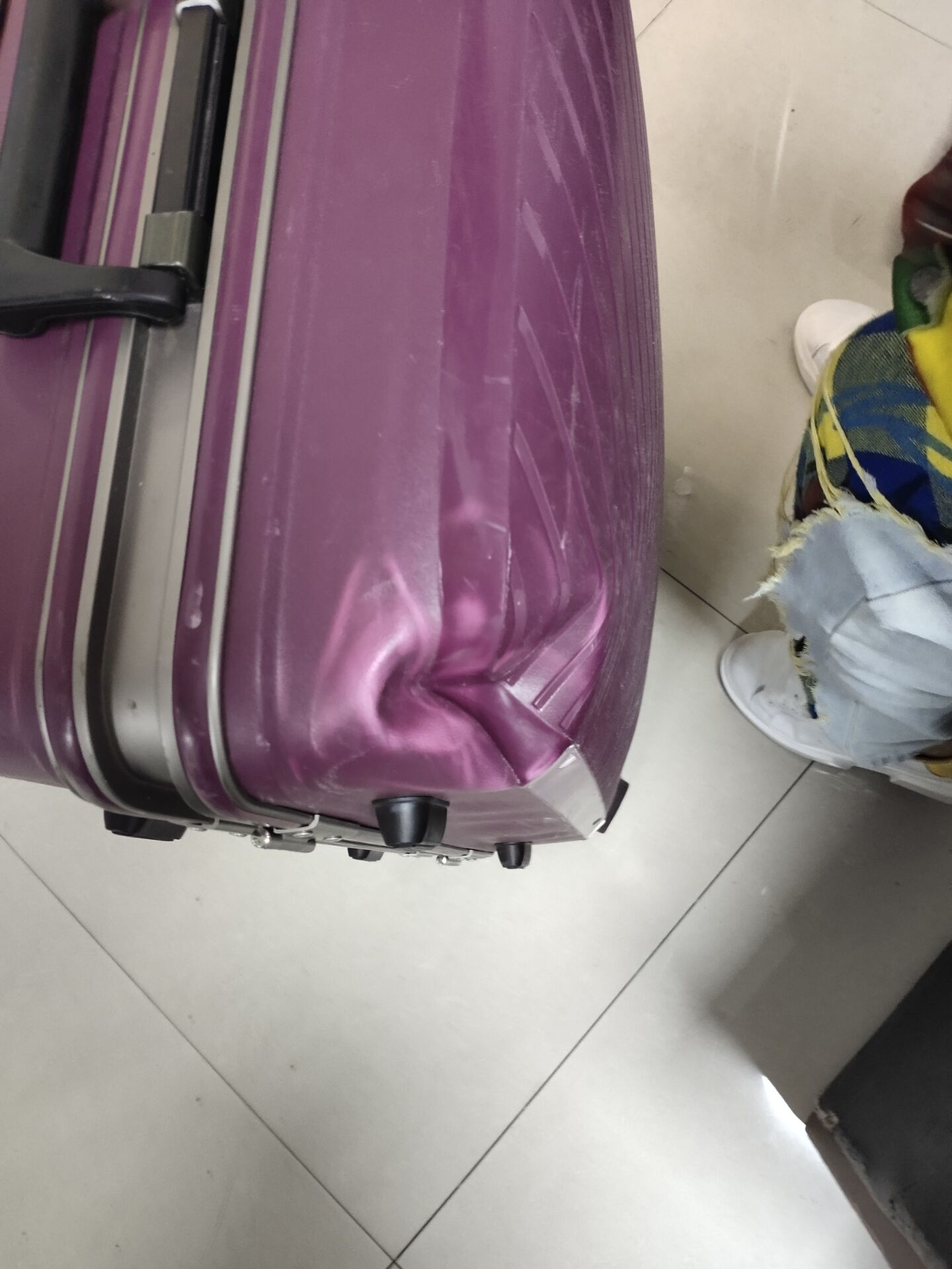rupture: (359, 590, 608, 785)
